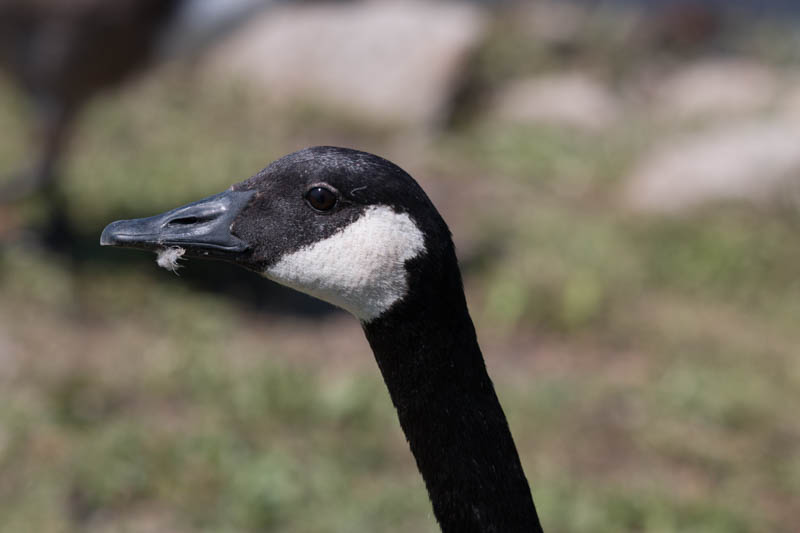goose-head: (99, 146, 452, 325)
